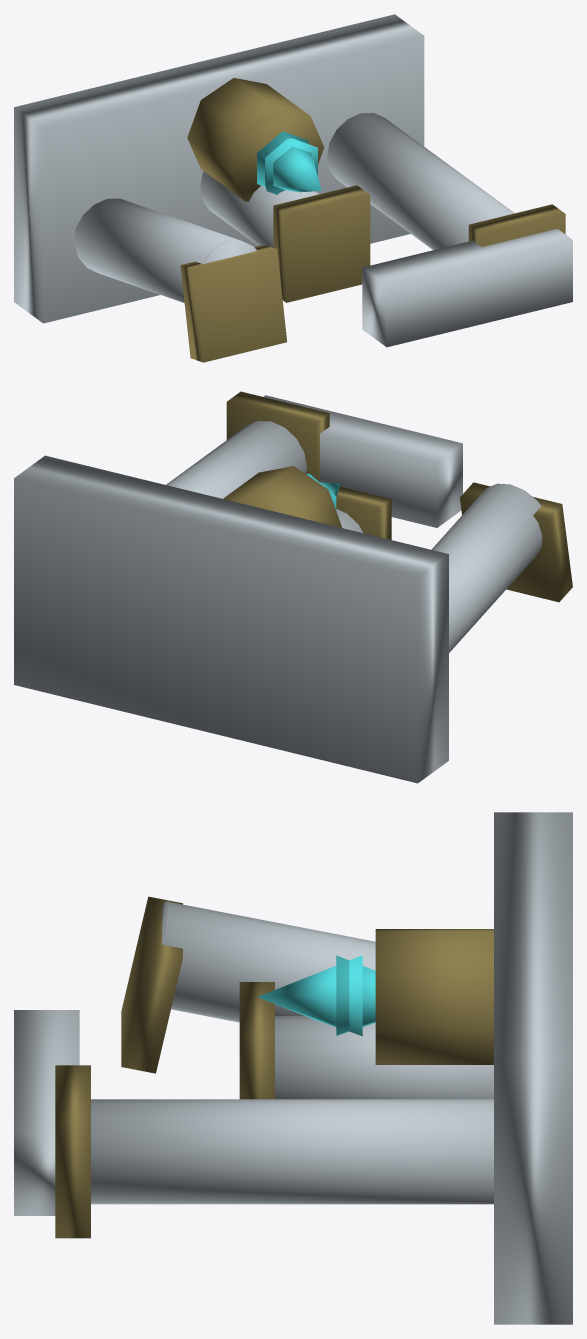
The model's file is 09_ruinas_e_colunas_atlantis.obj.
3 views of the same model, one above another, from view 1: azimuth 30°, elevation 25°; view 2: azimuth 150°, elevation 25°; view 3: azimuth 270°, elevation 25° (orthographic). The views are drawn at different scales.
Visible parts, largest first — view 1: Cube, Cube.004, Cylinder, Cylinder.002, Cube.003, Cube.002, Cylinder.003, Cylinder.001, Cube.001, Cone, Cone.001; view 2: Cube, Cube.004, Cylinder.002, Cylinder, Cube.003, Cylinder.003, Cube.001, Cube.002; view 3: Cylinder, Cube, Cylinder.003, Cylinder.002, Cylinder.001, Cube.004, Cube.003, Cube.001, Cube.002, Cone, Cone.001.
Part boxes in pixels (x1=…): Cube: x1=14, y1=14, x2=424, y2=323; Cube.004: x1=362, y1=229, x2=572, y2=347; Cylinder: x1=327, y1=112, x2=514, y2=249; Cylinder.002: x1=74, y1=198, x2=256, y2=302; Cube.003: x1=180, y1=244, x2=287, y2=362; Cube.002: x1=273, y1=185, x2=370, y2=302; Cylinder.003: x1=187, y1=78, x2=324, y2=201; Cylinder.001: x1=200, y1=171, x2=319, y2=247; Cube.001: x1=468, y1=204, x2=565, y2=246; Cone: x1=257, y1=131, x2=321, y2=192; Cone.001: x1=265, y1=138, x2=317, y2=194; Cube: x1=14, y1=455, x2=448, y2=783; Cube.004: x1=263, y1=395, x2=462, y2=527; Cylinder.002: x1=431, y1=483, x2=542, y2=652; Cylinder: x1=166, y1=421, x2=306, y2=498; Cube.003: x1=460, y1=482, x2=572, y2=602; Cylinder.003: x1=223, y1=466, x2=342, y2=527; Cube.001: x1=226, y1=391, x2=329, y2=481; Cube.002: x1=319, y1=481, x2=391, y2=539; Cylinder: x1=91, y1=1099, x2=493, y2=1204; Cube: x1=494, y1=812, x2=572, y2=1324; Cylinder.003: x1=375, y1=929, x2=493, y2=1064; Cylinder.002: x1=162, y1=901, x2=375, y2=1022; Cylinder.001: x1=275, y1=1016, x2=493, y2=1099; Cube.004: x1=14, y1=1010, x2=79, y2=1215; Cube.003: x1=121, y1=896, x2=182, y2=1073; Cube.001: x1=55, y1=1065, x2=90, y2=1238; Cube.002: x1=239, y1=982, x2=274, y2=1099; Cone: x1=258, y1=955, x2=362, y2=1036; Cone.001: x1=336, y1=955, x2=375, y2=1035.
Bounding box in the file's own units: 4.5 × 2.25 × 4.25.
11 materials, 11 textured.
